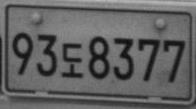3: (36, 33, 58, 76), (113, 37, 134, 80)
7: (137, 37, 161, 82), (162, 39, 186, 83)
8: (88, 35, 110, 79)
9: (12, 31, 33, 75)
도: (62, 42, 83, 78)
